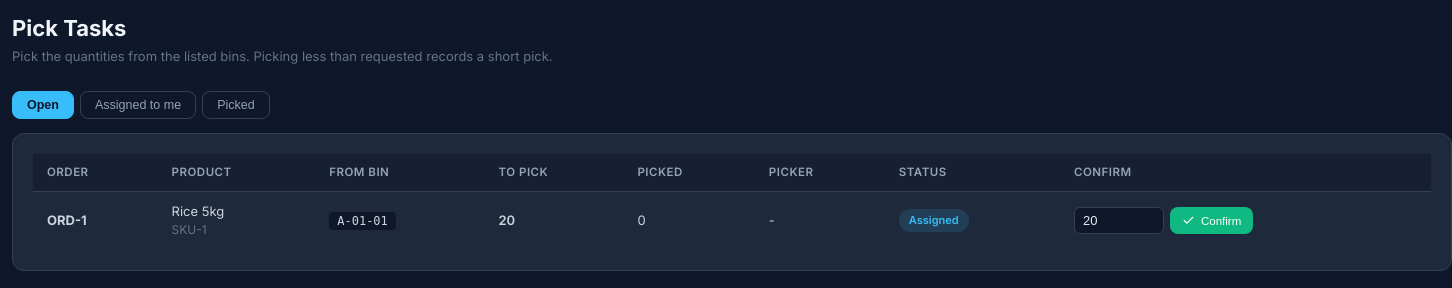
Scenario: Pick tasks page › confirms the full quantity by default
Click the button "Confirm": (1212, 220) [1170,207,1253,234]
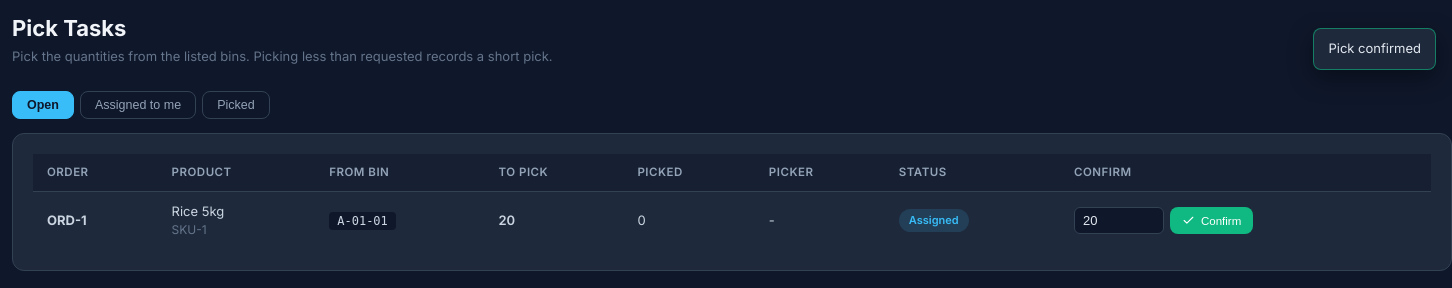
Now the text "Pick confirmed" is shown, box [1313,28,1436,70]
